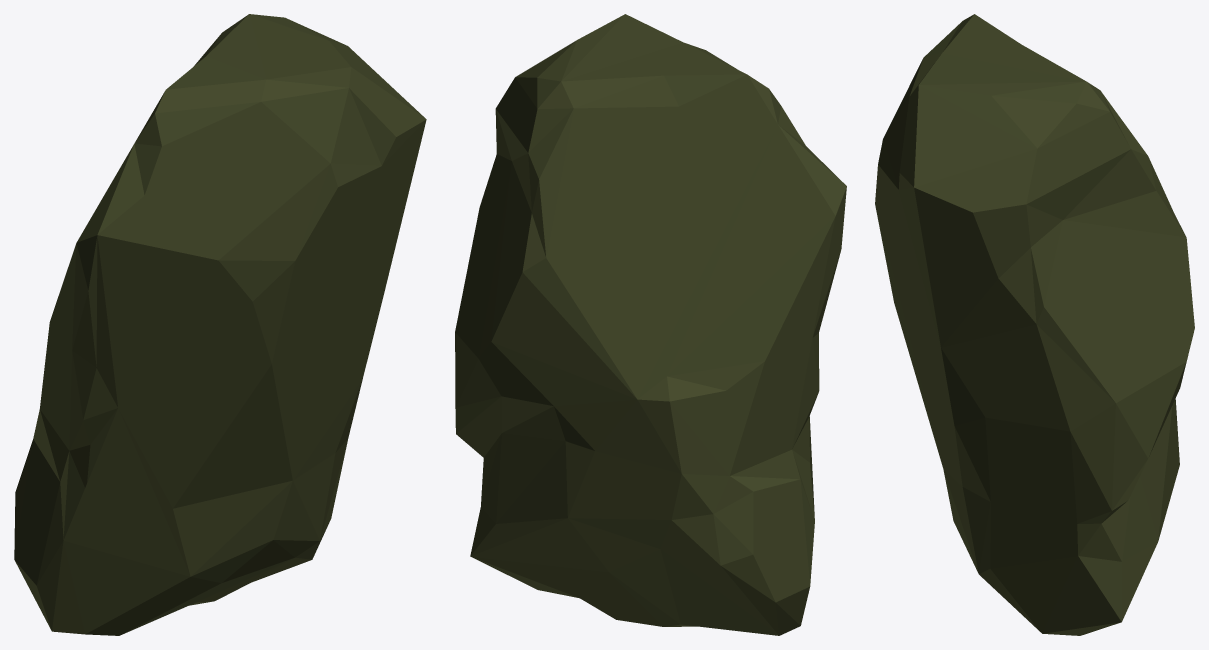
File: SM_small_rock_28.fbx
3 views of the same model, side by side, from view 1: azimuth 30°, elevation 25°; view 2: azimuth 150°, elevation 25°; view 3: azimuth 270°, elevation 25° (orthographic). The views are drawn at different scales.
Parts seen in each view (by area): view 1: small_rock_28; view 2: small_rock_28; view 3: small_rock_28.
Boxes of the visible parts, bbox=[...] form: small_rock_28: bbox=[14, 14, 426, 635]; small_rock_28: bbox=[455, 14, 846, 635]; small_rock_28: bbox=[875, 14, 1194, 635].
Bounding box in the file's own units: 10.88 × 17.19 × 8.82.
